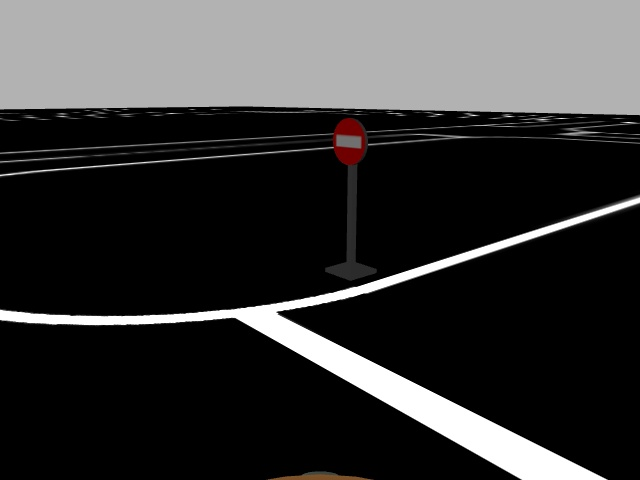prohibited: (332, 117, 370, 167)
